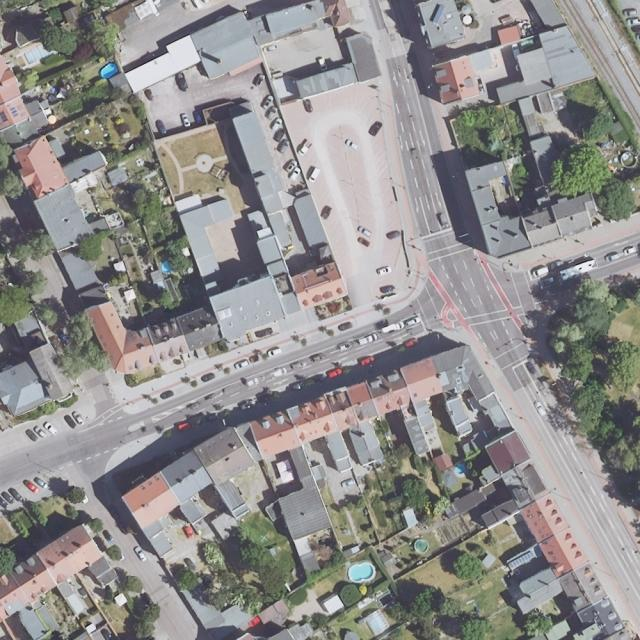PV: (507, 551, 535, 569)
ST: (9, 106, 19, 117)
